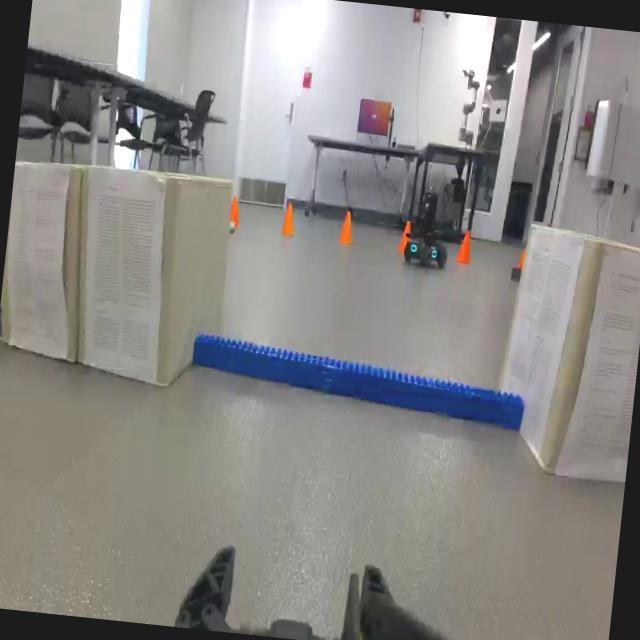cone: (335, 208, 357, 250), (224, 191, 246, 231), (455, 226, 477, 265), (280, 198, 298, 238), (398, 218, 412, 256), (516, 240, 530, 272)
river: (186, 329, 528, 436)
robot: (400, 187, 455, 279)
storage cube: (60, 156, 238, 397), (490, 214, 640, 486), (0, 149, 101, 366)
